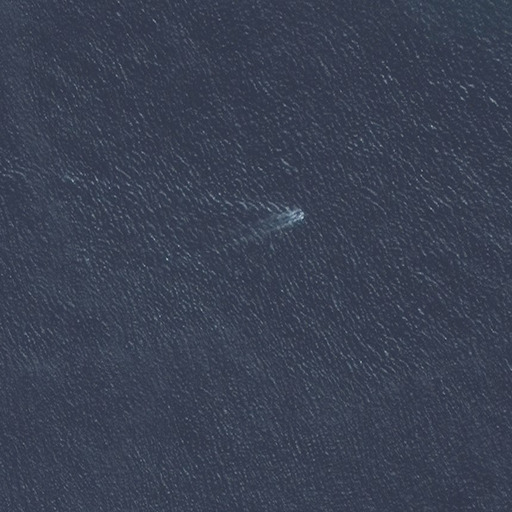ship: (293, 210, 305, 221)
